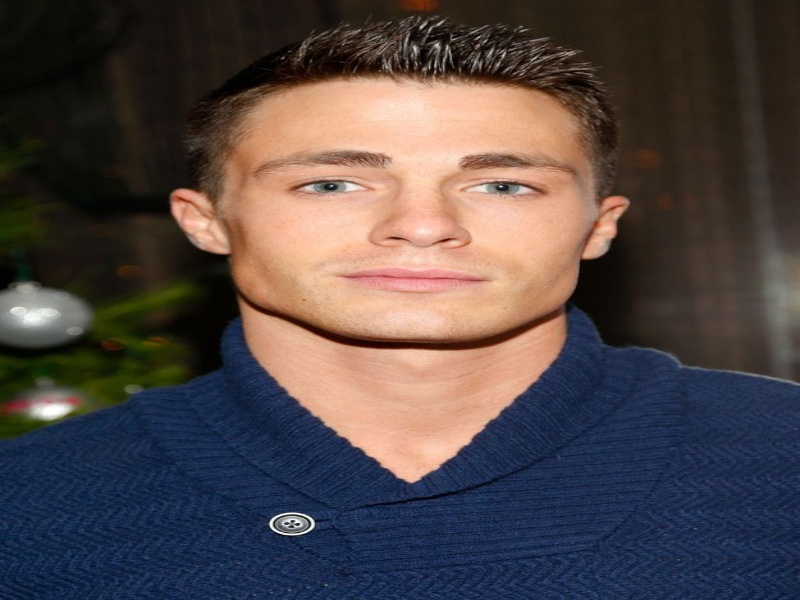face: (251, 113, 581, 317)
